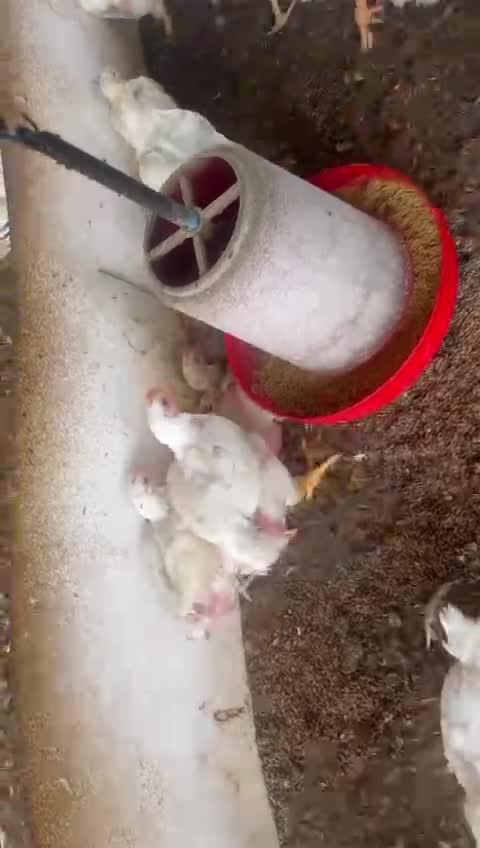Normal: (147, 389, 337, 572), (130, 475, 267, 621), (94, 67, 198, 120)
